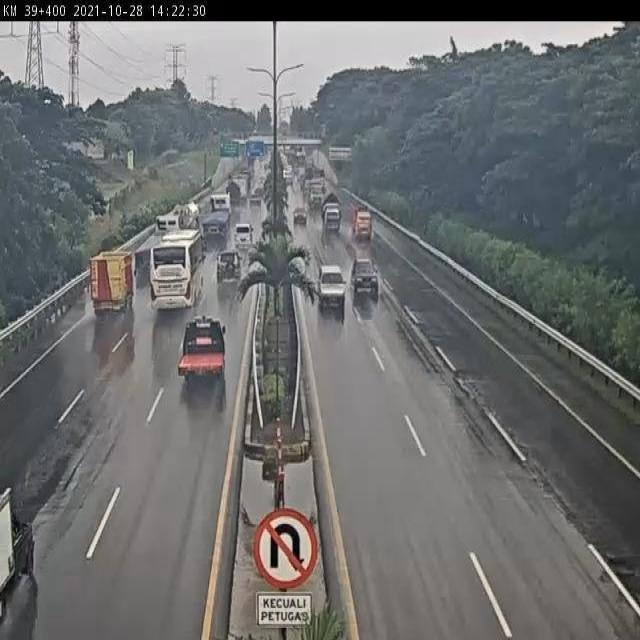Bus: (150, 228, 206, 310)
Car: (316, 264, 347, 315), (351, 257, 379, 300), (216, 252, 242, 294), (233, 222, 254, 252), (293, 207, 307, 225), (249, 190, 262, 206)
Truck: (178, 315, 226, 389), (89, 249, 136, 317), (200, 191, 235, 246), (322, 192, 342, 234), (351, 206, 372, 243), (230, 172, 250, 202), (306, 178, 326, 208)
